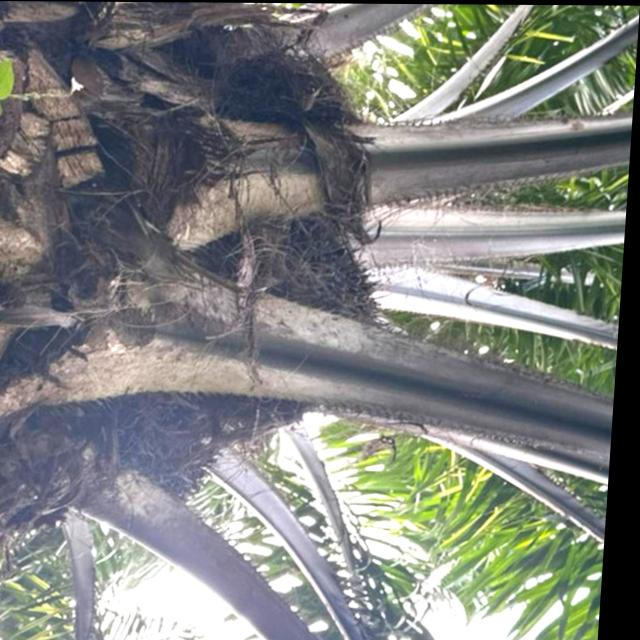almost: (180, 231, 388, 434)
